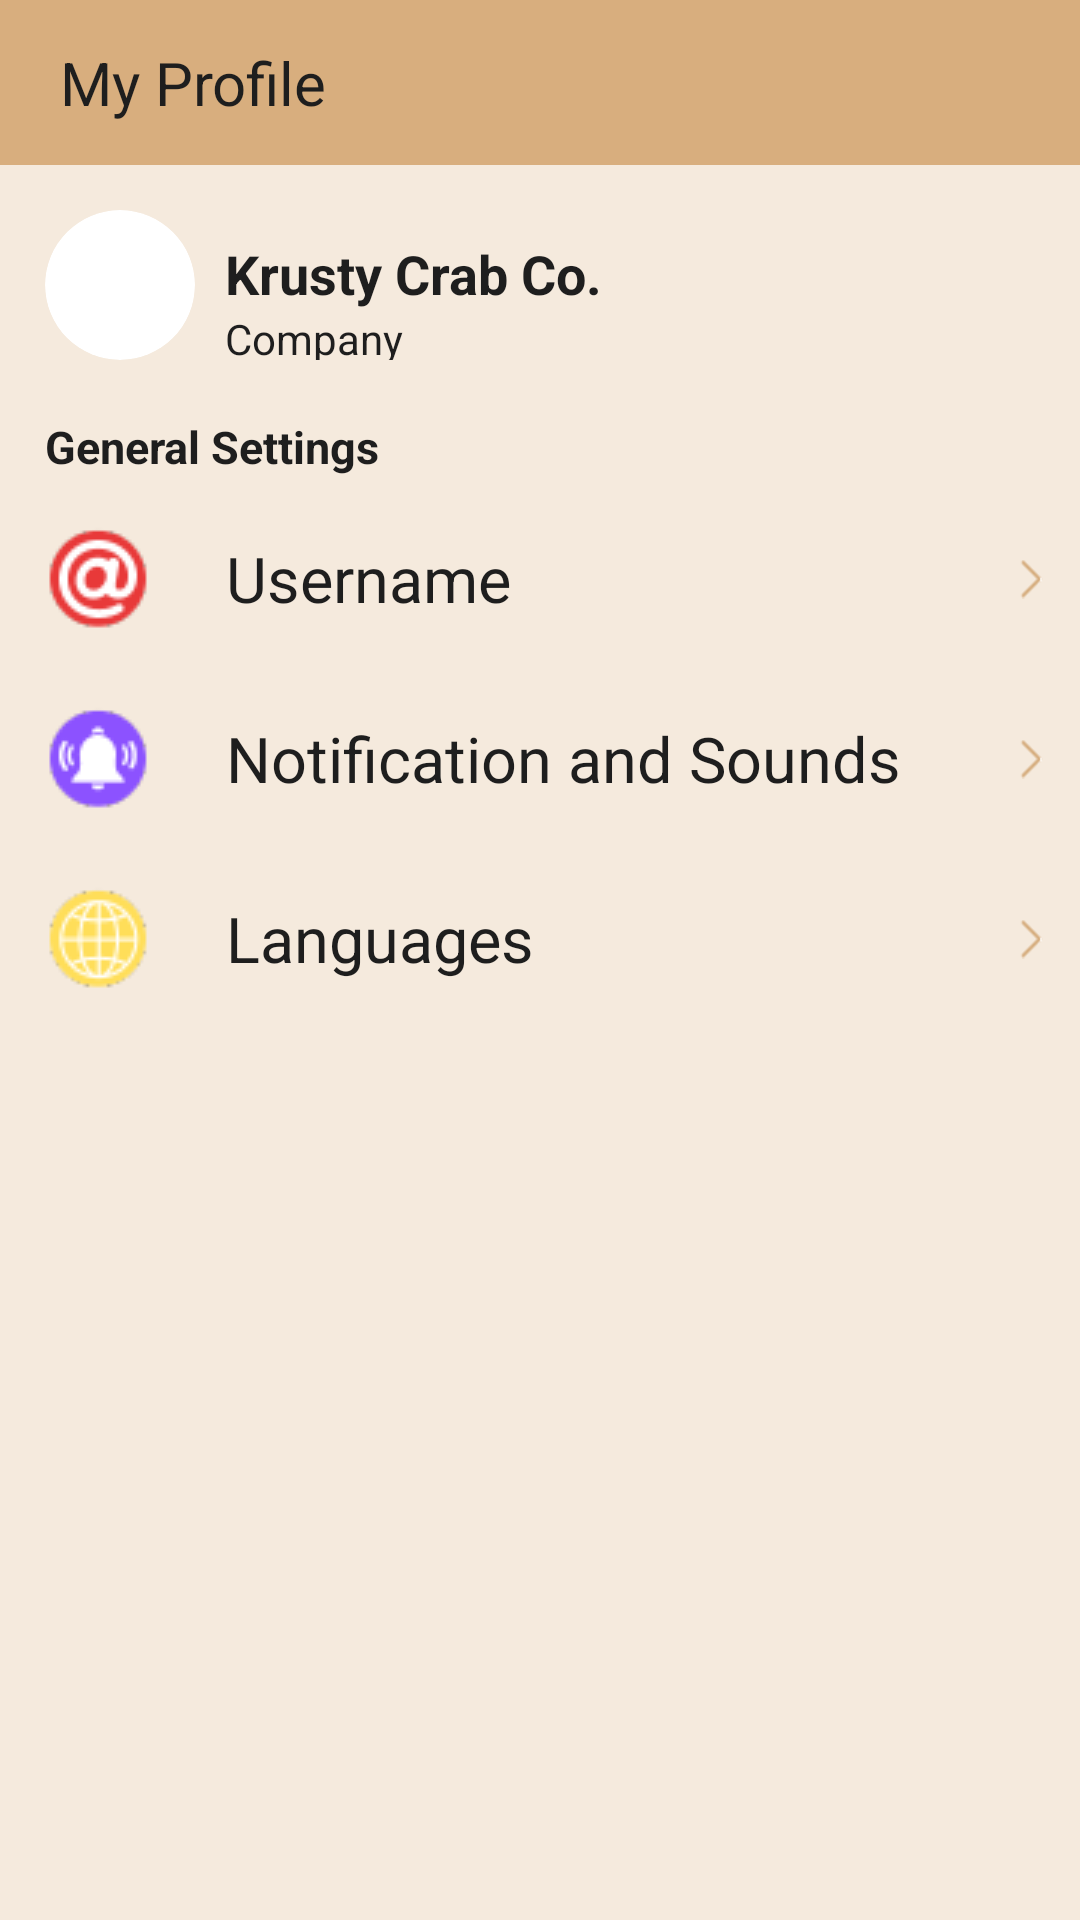

Locate icon controls on the screen. Image size 1080 x 1920, boxes as bbox=[x1, y1, x2, y2].
continuebutton: bbox=[1021, 560, 1040, 598], bbox=[1021, 740, 1040, 778], bbox=[1021, 920, 1040, 958]
